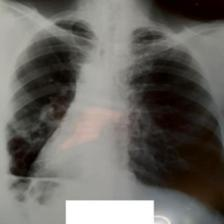tuberculosis: (0, 12, 223, 224)
